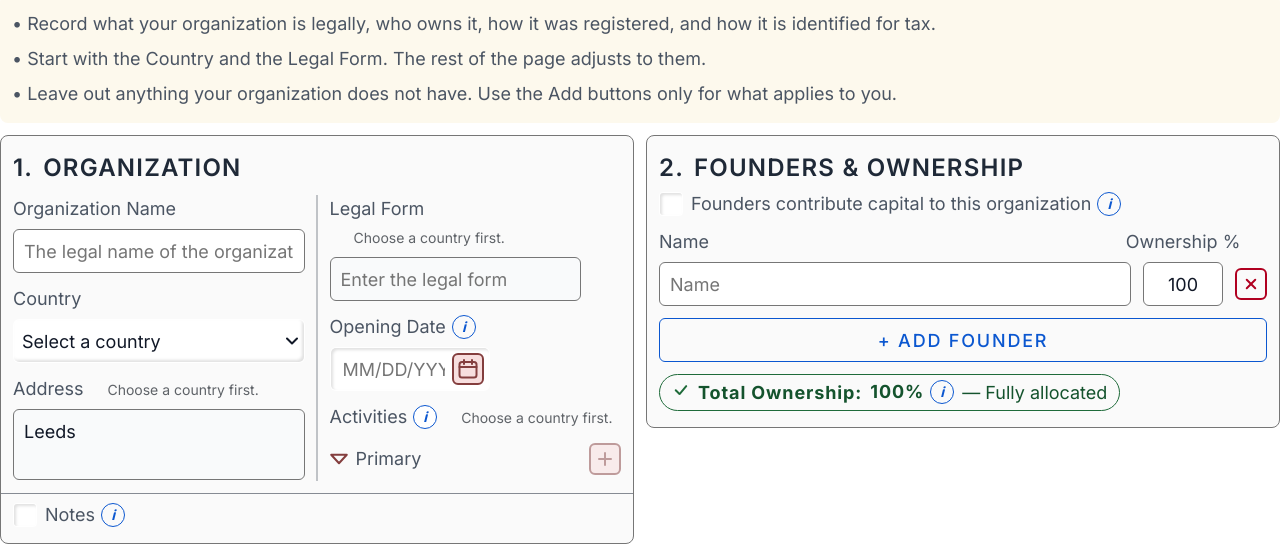
LegalEntityEditor chained answers › freezes where the organization is, its legal form and its registration authority until a country is chosen, keeping what they hold
Expected: the text box named "Address" holds "Leeds", [13,409,304,480]
Click the button "Select a country" at (159, 341), box [13,319,304,363]
(page scrolled)
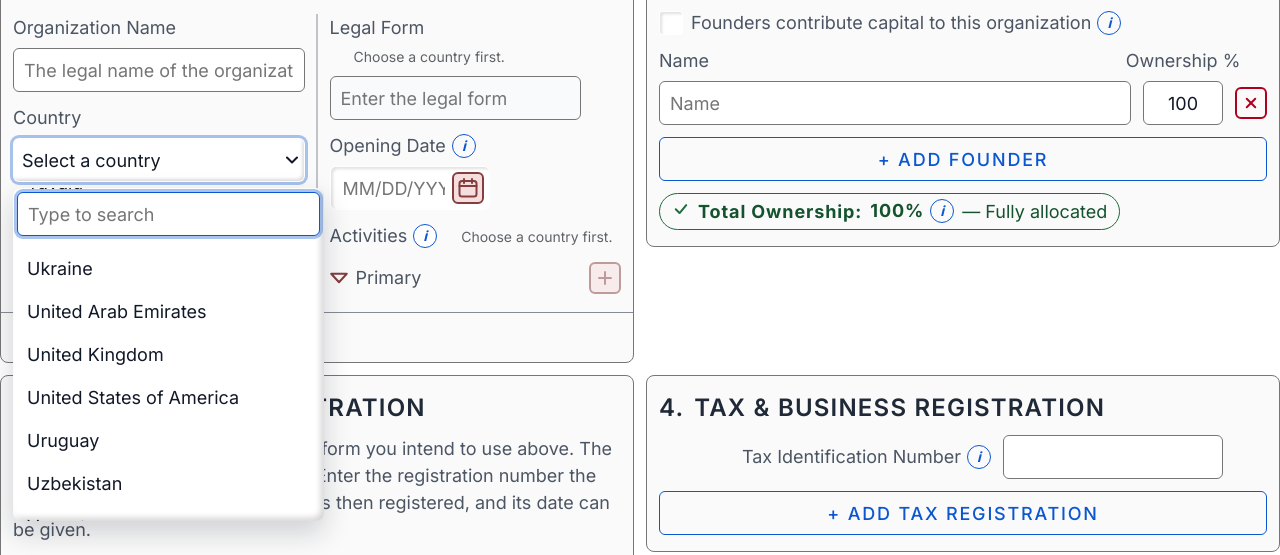
Click the option "United Kingdom" at (95, 355), box [27,344,164,365]
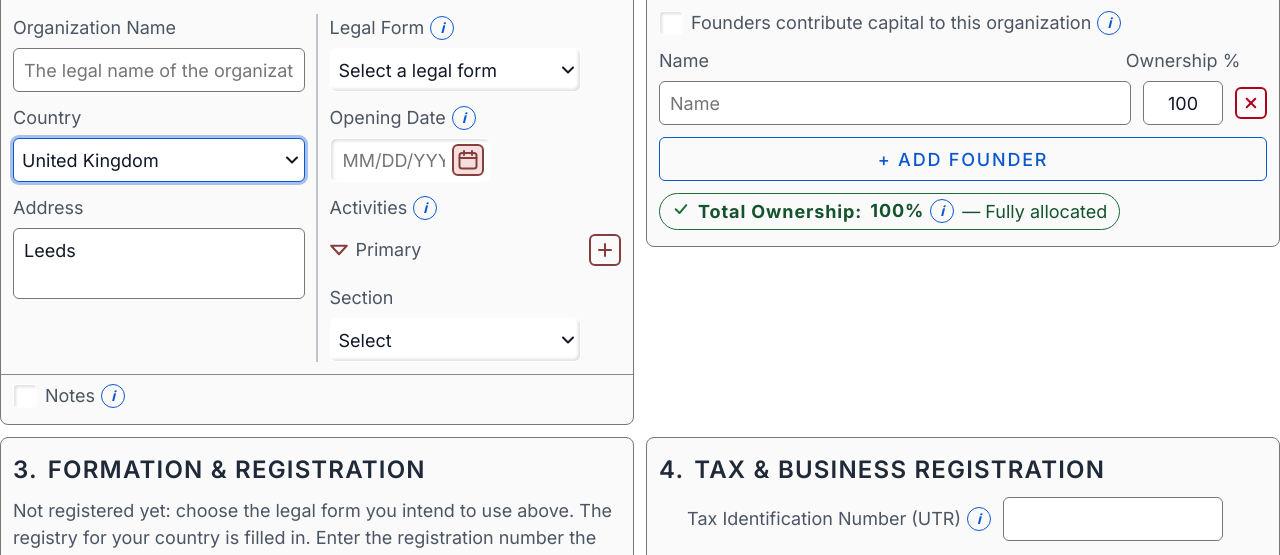
Expected: the text box named "Address" holds "Leeds", [13,228,304,299]
Expected: the text "Choose a country first." is gone
